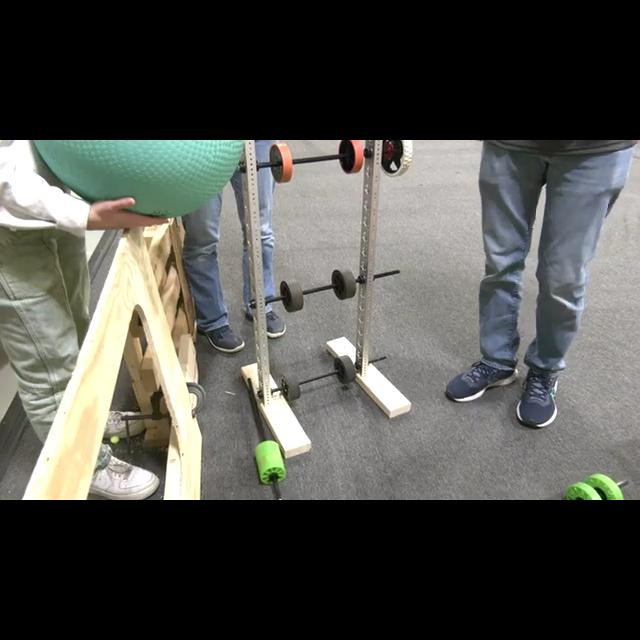ALGAE: (32, 140, 245, 218)
